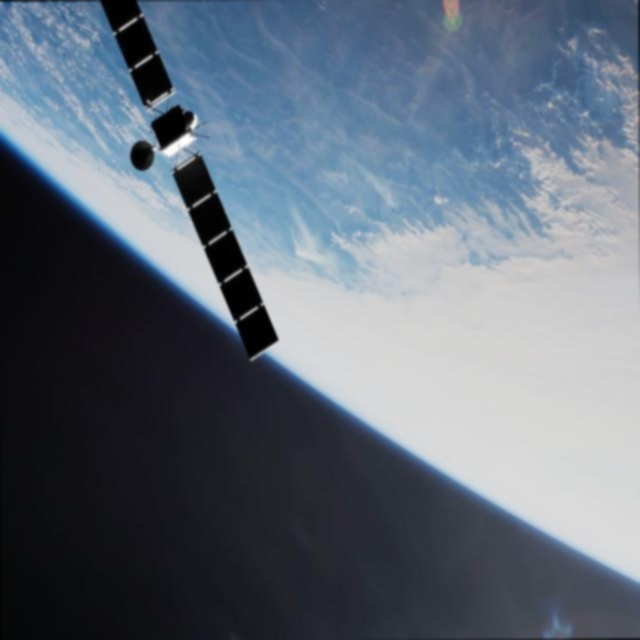medium_debris: (84, 0, 283, 364)
